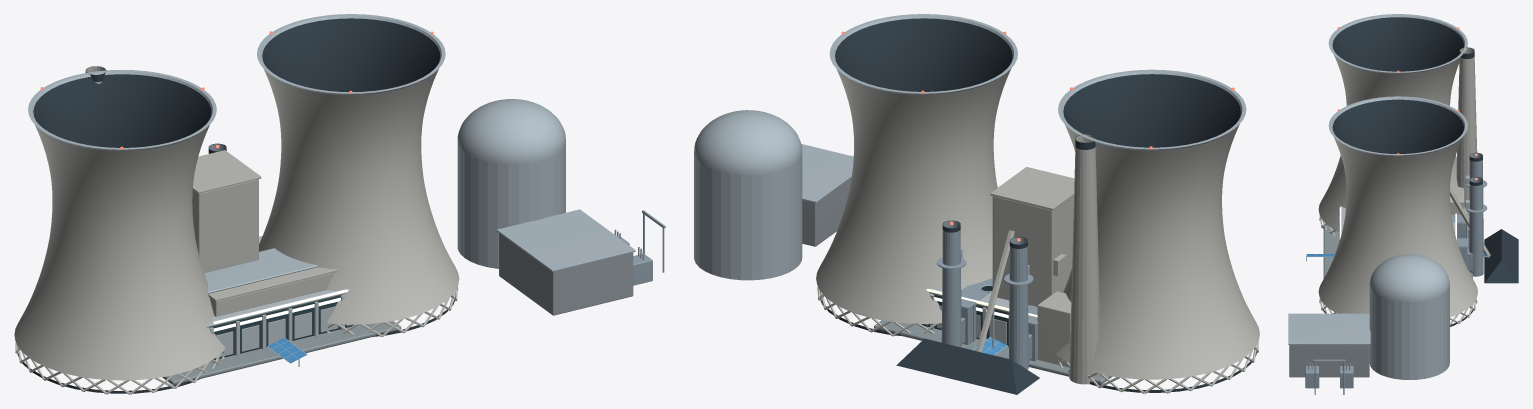
File: across-infrastructure.glb
The picture shows the model from 3 angles, left to right: view 1: azimuth 30°, elevation 25°; view 2: azimuth 150°, elevation 25°; view 3: azimuth 270°, elevation 25°; orthographic projection. The views are drawn at different scales.
Parts seen in each view (by area): view 1: NUCLEAR_PLANT__Tower concrete, NUCLEAR_PLANT__Ceramic metal casing, NUCLEAR_PLANT__Graphite recess, COAL_PLANT__Coal plant concrete and steel, NUCLEAR_PLANT__Turbine hall cladding, MAP_CAMPUS__Ceramic-coated pearl aluminum, MAP_CAMPUS__Honed concrete plinth, GAS_PLANT__Ceramic metal casing, MAP_CAMPUS__Recessed graphite panels, NUCLEAR_PLANT__Brushed structural steel; view 2: NUCLEAR_PLANT__Tower concrete, NUCLEAR_PLANT__Ceramic metal casing, NUCLEAR_PLANT__Graphite recess, COAL_PLANT__Coal plant concrete and steel, GAS_PLANT__Brushed structural steel, COAL_PLANT__Graphite recess, NUCLEAR_PLANT__Turbine hall cladding, MAP_CAMPUS__Honed concrete plinth, MAP_CAMPUS__Ceramic-coated pearl aluminum; view 3: NUCLEAR_PLANT__Tower concrete, NUCLEAR_PLANT__Ceramic metal casing, NUCLEAR_PLANT__Graphite recess, COAL_PLANT__Coal plant concrete and steel, GAS_PLANT__Brushed structural steel, NUCLEAR_PLANT__Turbine hall cladding, COAL_PLANT__Graphite recess, NUCLEAR_PLANT__Brushed structural steel, MAP_CAMPUS__Honed concrete plinth.
Part boxes in pixels (left/top/right/bottom): NUCLEAR_PLANT__Tower concrete: left=14, top=69, right=459, bottom=394; NUCLEAR_PLANT__Ceramic metal casing: left=28, top=14, right=644, bottom=271; NUCLEAR_PLANT__Graphite recess: left=17, top=18, right=455, bottom=393; COAL_PLANT__Coal plant concrete and steel: left=86, top=66, right=337, bottom=316; NUCLEAR_PLANT__Turbine hall cladding: left=499, top=233, right=633, bottom=315; MAP_CAMPUS__Ceramic-coated pearl aluminum: left=206, top=236, right=352, bottom=362; MAP_CAMPUS__Honed concrete plinth: left=162, top=321, right=401, bottom=385; GAS_PLANT__Ceramic metal casing: left=204, top=248, right=317, bottom=293; MAP_CAMPUS__Recessed graphite panels: left=209, top=295, right=353, bottom=359; NUCLEAR_PLANT__Brushed structural steel: left=618, top=210, right=665, bottom=285; NUCLEAR_PLANT__Tower concrete: left=816, top=68, right=1259, bottom=393; NUCLEAR_PLANT__Ceramic metal casing: left=694, top=14, right=1246, bottom=280; NUCLEAR_PLANT__Graphite recess: left=819, top=18, right=1256, bottom=392; COAL_PLANT__Coal plant concrete and steel: left=976, top=134, right=1100, bottom=384; GAS_PLANT__Brushed structural steel: left=937, top=220, right=1038, bottom=369; COAL_PLANT__Graphite recess: left=896, top=134, right=1095, bottom=394; NUCLEAR_PLANT__Turbine hall cladding: left=802, top=177, right=851, bottom=246; MAP_CAMPUS__Honed concrete plinth: left=874, top=320, right=1112, bottom=384; MAP_CAMPUS__Ceramic-coated pearl aluminum: left=923, top=278, right=1029, bottom=347; NUCLEAR_PLANT__Tower concrete: left=1318, top=54, right=1477, bottom=325; NUCLEAR_PLANT__Ceramic metal casing: left=1288, top=14, right=1467, bottom=379; NUCLEAR_PLANT__Graphite recess: left=1322, top=17, right=1474, bottom=326; COAL_PLANT__Coal plant concrete and steel: left=1450, top=47, right=1490, bottom=258; GAS_PLANT__Brushed structural steel: left=1451, top=153, right=1487, bottom=276; NUCLEAR_PLANT__Turbine hall cladding: left=1289, top=345, right=1369, bottom=377; COAL_PLANT__Graphite recess: left=1459, top=47, right=1518, bottom=283; NUCLEAR_PLANT__Brushed structural steel: left=1305, top=359, right=1353, bottom=394; MAP_CAMPUS__Honed concrete plinth: left=1323, top=223, right=1472, bottom=278.
Size of the model in its own units: 86.04 by 34.41 by 40.2.
